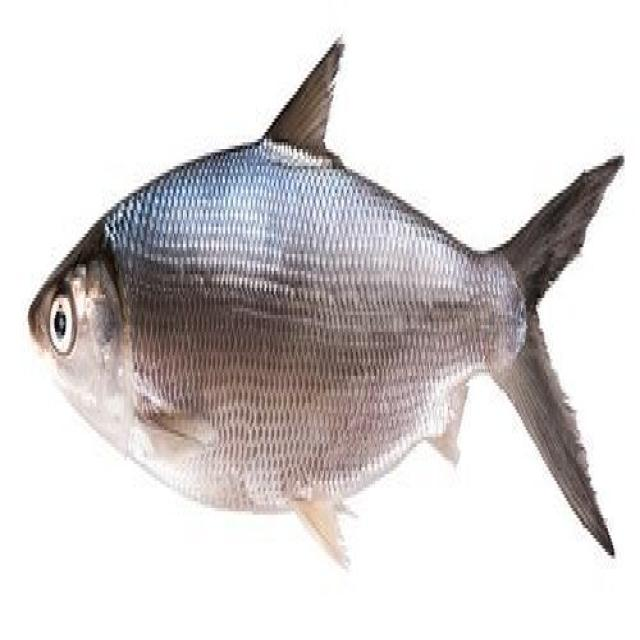Bangus: (23, 20, 635, 601)
